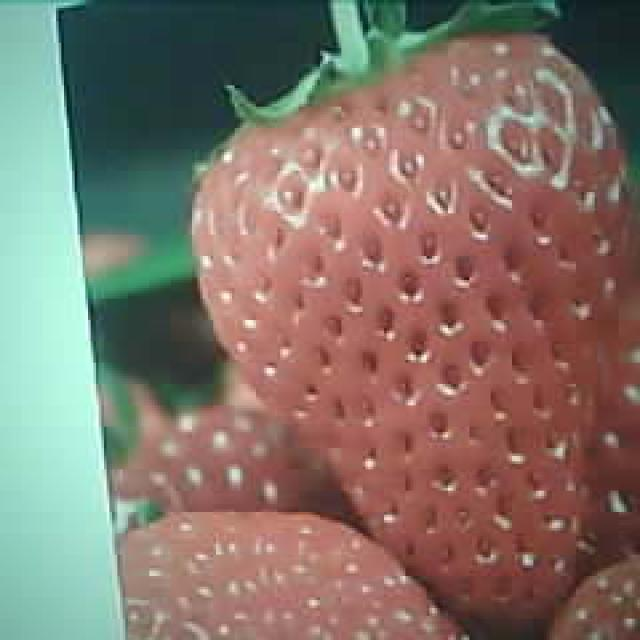ripe: (191, 39, 631, 620)
